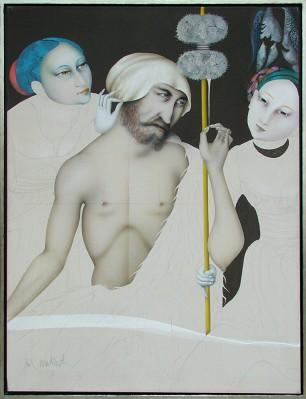person: (2, 52, 248, 326), (3, 35, 121, 228), (223, 63, 304, 342)
